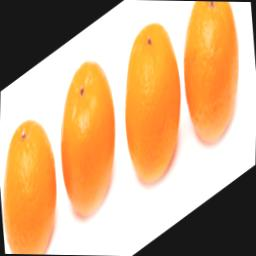Orange Ripe: (2, 95, 61, 253)
